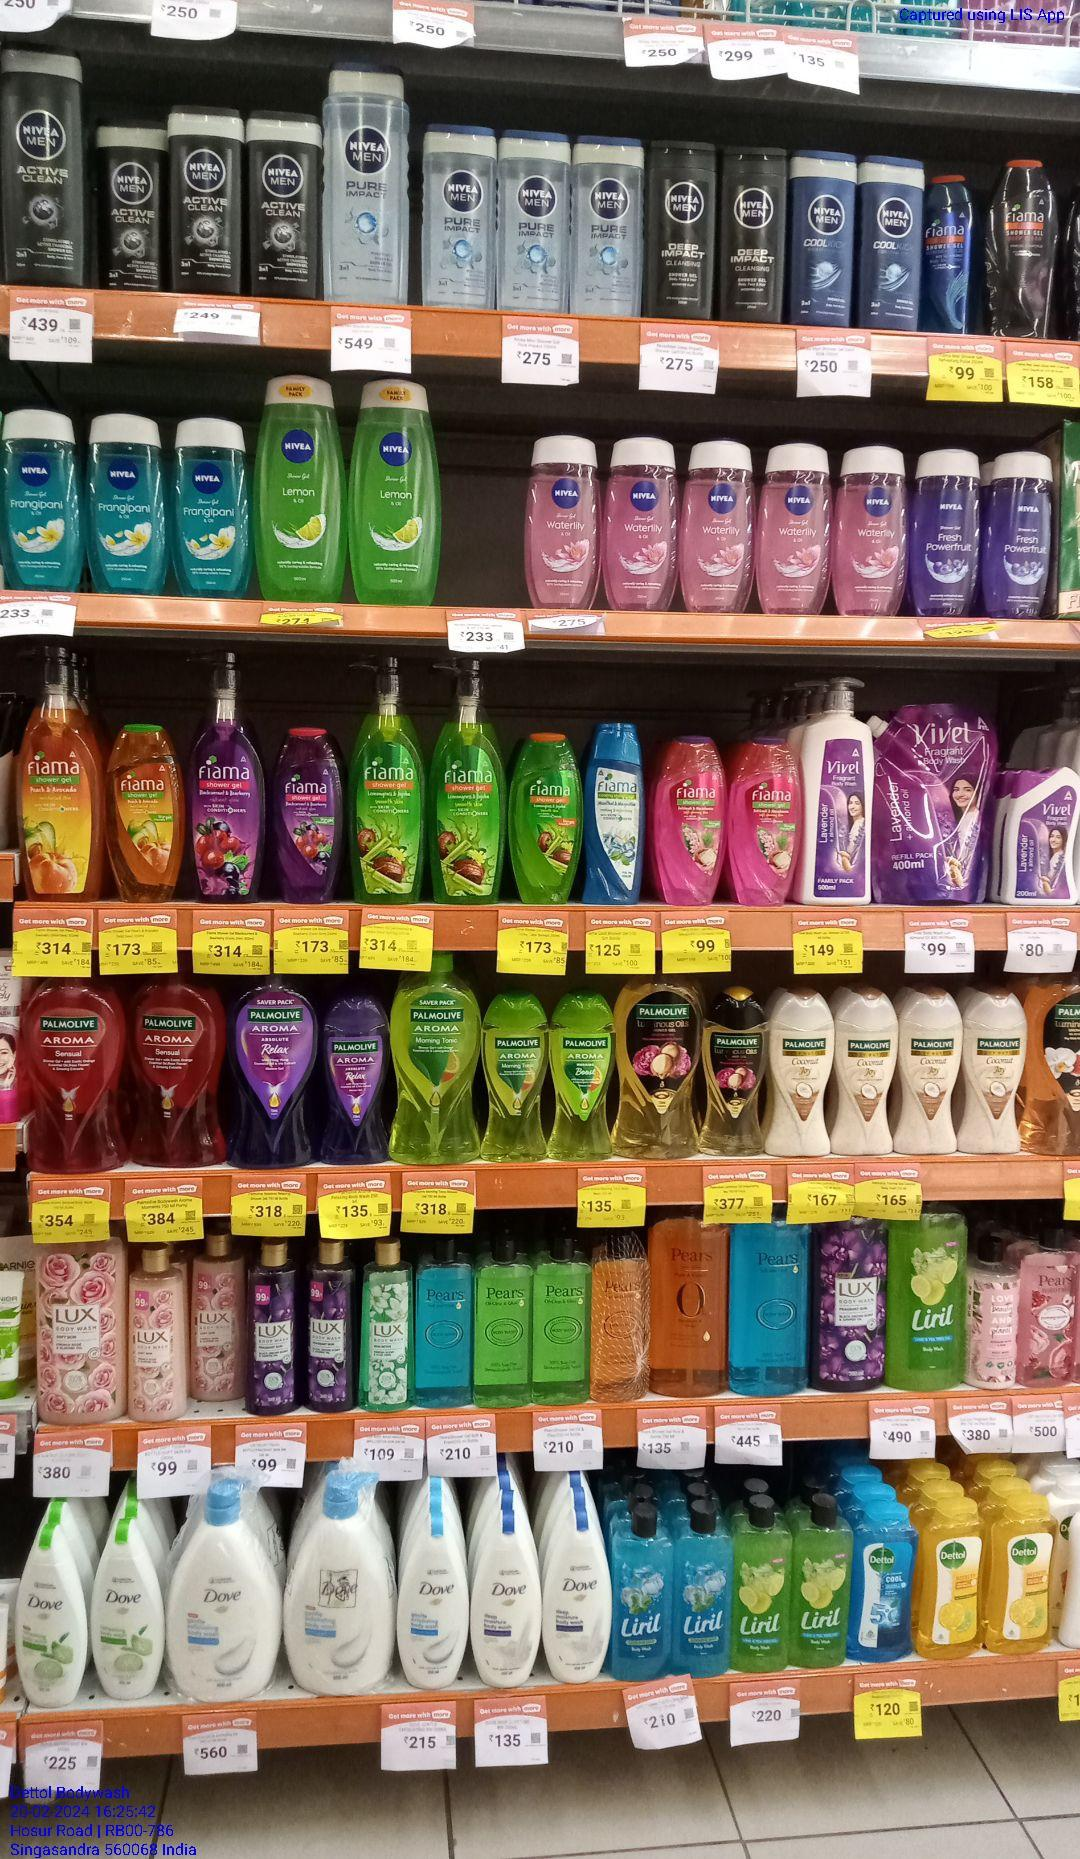Dettol_Bodywash_Cool: (855, 1502, 913, 1662)
Dettol_Bodywash_Refresh: (989, 1500, 1054, 1653), (921, 1507, 981, 1657)
Dove_Deep_Moisture_Body_Wash_250ML: (472, 1523, 541, 1691), (546, 1521, 609, 1687)
Dove_Gentle_Exfoliating_Body_Wash_250ML: (397, 1531, 469, 1689)
Dove_Refreshing_Body_Wash_250ML: (14, 1525, 87, 1707), (93, 1517, 163, 1698)
Fiama_Shower_Gel_Lemongrass_and_Jojoba_250ML: (510, 726, 581, 906)
Fiama_Shower_Gel_Patchouli_and_Macadamia_250ML: (730, 729, 800, 904), (656, 732, 725, 905)
Fiama_Shower_Gel_Peach_and_Avocado_250ML: (105, 725, 179, 901)
Liril_Cooling_Mint_Body_Wash_250ML: (615, 1505, 672, 1680), (681, 1500, 730, 1678)
Liril_Lime_and_Tea_Tree_Oil_Body_Wash_250ML: (735, 1495, 789, 1673), (793, 1500, 850, 1667)
Lux_Black_Orchid_Scent_and_Juniper_Oil_Body_Wash_245ML: (247, 1242, 300, 1413), (305, 1241, 354, 1413)
Lux_Body_Wash_Skin_Detox_Freesia_Scent_and_Alove_Vera_245ML: (360, 1238, 413, 1412)
Nivea_Shower_Gel_Frangipani_and_Oil_250ML: (3, 402, 84, 589), (90, 413, 167, 597), (172, 415, 249, 595)
Nivea_Shower_Gel_Fresh_Powerfruit_250ML: (912, 450, 977, 617), (989, 455, 1050, 620)
Nivea_Shower_Gel_Lemon_and_Oil_250ML: (255, 378, 345, 600), (354, 374, 436, 603)
Nivea_Shower_Gel_Waterlily_and_Oil_250ML: (681, 437, 753, 611), (757, 445, 831, 615), (530, 437, 599, 609), (836, 450, 904, 615), (607, 441, 674, 607)
Palmolive_Aroma_Morning_Tonic_Shower_Gel_250ML: (481, 994, 549, 1163), (554, 989, 612, 1161)
Palmolive_Luminous_Oils_Invigorating_Macadamia_Oil_With_Peony_250ML: (703, 987, 764, 1157)
Pears_Pure_Glycerin_and_Lemon_Flower_Extracts_Body_Wash_250ML: (477, 1233, 532, 1412), (537, 1232, 590, 1406)
Pears_Pure_Glycerin_and_Mint_Extracts_Body_Wash_250ML: (419, 1237, 472, 1408)
